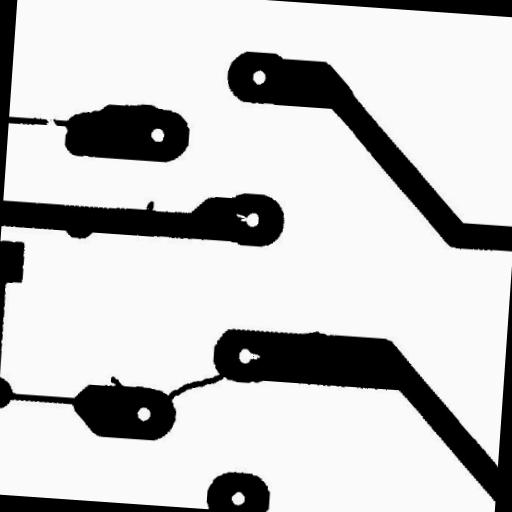mousebite: (227, 206, 256, 230), (238, 345, 268, 368)
open: (37, 106, 65, 135)
short: (160, 359, 234, 411)
spur: (102, 368, 133, 397), (136, 192, 162, 222)
